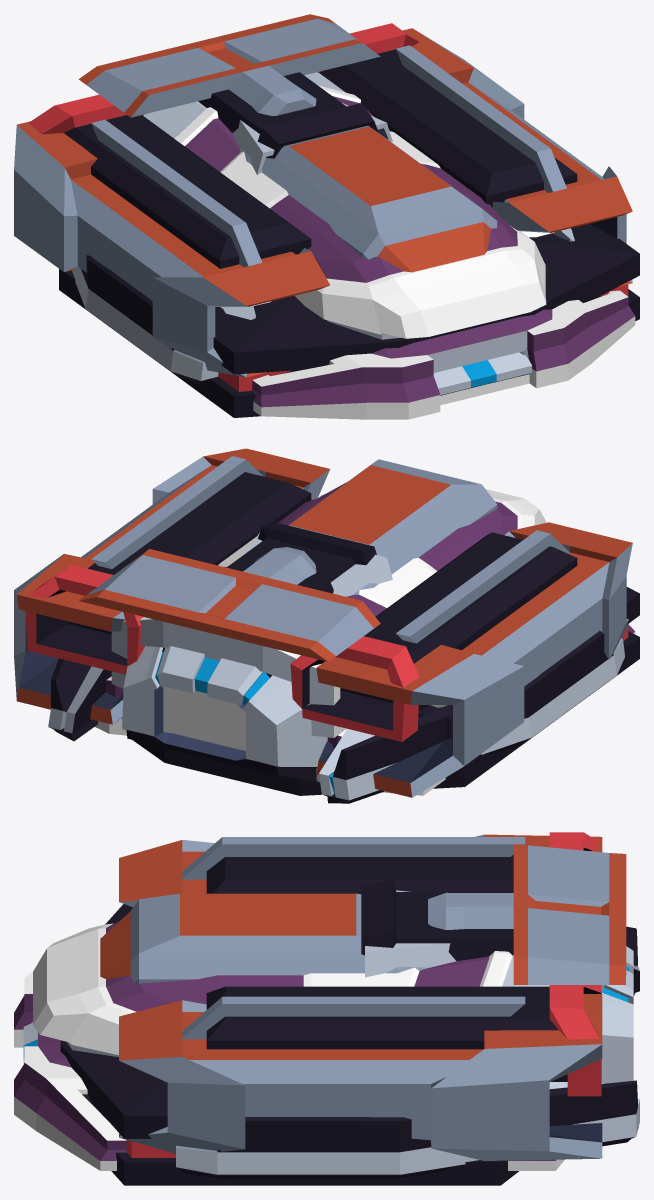
Rendered from Racers.fbx.
3 renders of one model, top to bottom at view 1: azimuth 30°, elevation 25°; view 2: azimuth 150°, elevation 25°; view 3: azimuth 270°, elevation 25°, orthographic. The views are drawn at different scales.
Parts seen in each view (by area): view 1: Javelin, Goliath, Zephyr, QuickSilver; view 2: Javelin, Goliath, QuickSilver, Zephyr; view 3: Javelin, Goliath, Zephyr, QuickSilver.
Boxes of the visible parts, x1,y1,x2,y2 form: Javelin: [14, 14, 632, 377]; Goliath: [28, 23, 639, 417]; Zephyr: [143, 72, 635, 419]; QuickSilver: [72, 102, 574, 395]; Javelin: [14, 448, 632, 797]; Goliath: [25, 472, 639, 795]; QuickSilver: [48, 532, 624, 803]; Zephyr: [95, 482, 635, 795]; Javelin: [100, 834, 626, 1160]; Goliath: [60, 832, 601, 1185]; Zephyr: [14, 921, 604, 1170]; QuickSilver: [23, 890, 639, 1178].
Bounding box in the file's own units: 227 × 88.25 × 249.
Materials: 2 (1 with a texture image).
